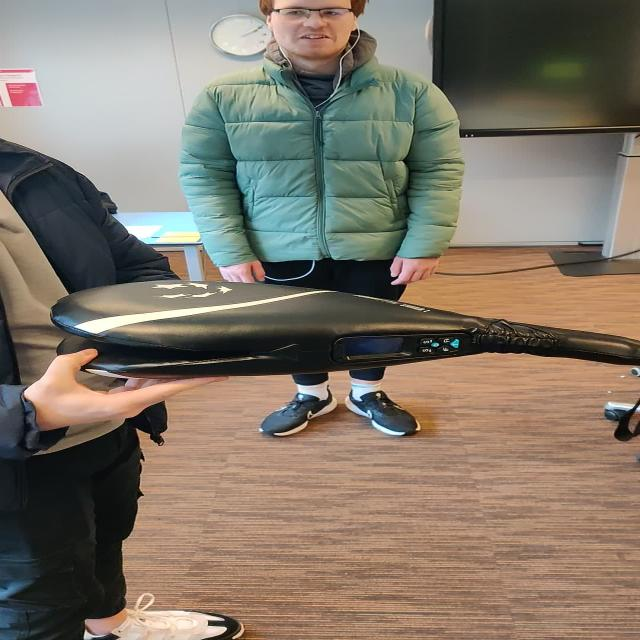paddle: (52, 281, 640, 379)
